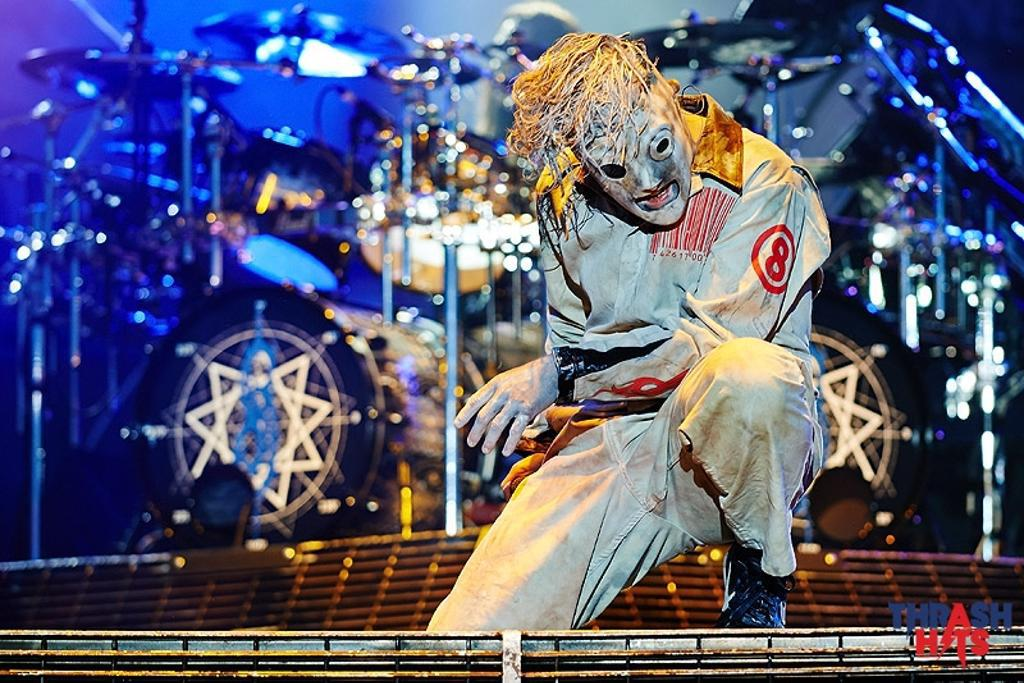face: (579, 103, 691, 225)
